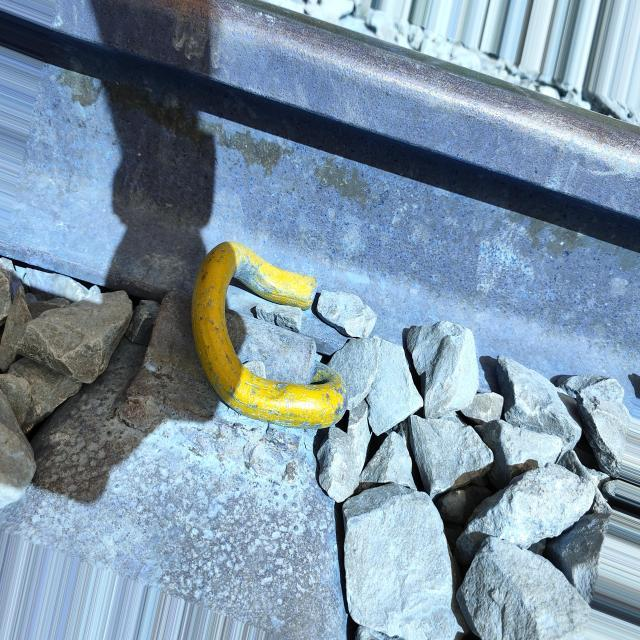Good Fasteners: (115, 242, 346, 475)
